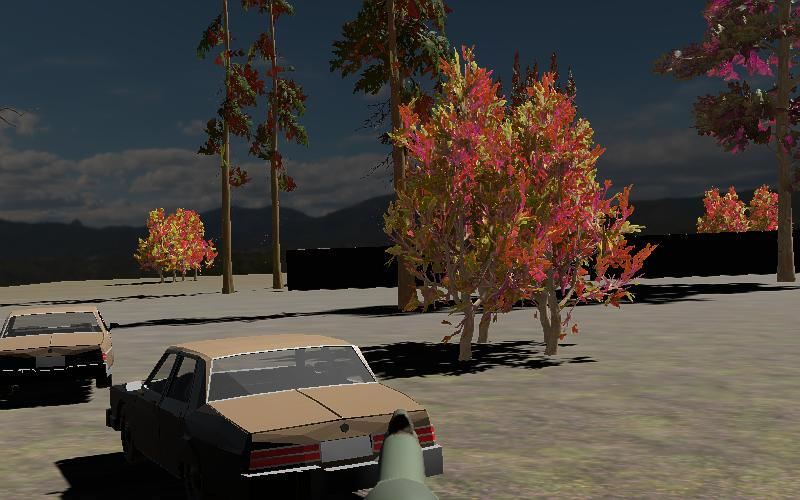car: (106, 335, 446, 498), (0, 303, 116, 394)
